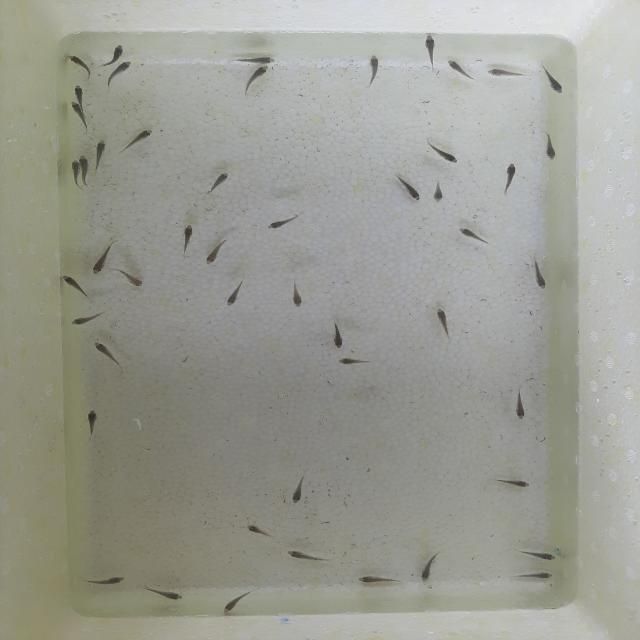fingerling: (282, 546, 332, 569), (288, 467, 313, 506), (432, 305, 457, 344), (220, 588, 256, 615), (507, 386, 533, 422), (494, 472, 536, 493), (426, 140, 459, 166), (456, 225, 492, 248), (528, 254, 549, 292), (67, 100, 90, 134), (419, 548, 441, 583), (64, 311, 104, 330), (398, 176, 425, 204), (222, 280, 248, 308), (242, 65, 272, 89), (143, 586, 186, 602), (125, 127, 156, 149), (542, 70, 568, 96), (59, 272, 87, 296), (244, 522, 277, 542), (88, 245, 110, 275), (518, 548, 559, 564), (109, 60, 136, 84), (334, 354, 380, 368), (66, 53, 95, 75), (83, 408, 101, 443), (180, 222, 197, 259), (92, 340, 118, 364), (429, 180, 452, 207), (203, 239, 224, 267), (118, 268, 146, 288), (83, 574, 129, 586), (228, 55, 278, 65), (503, 161, 519, 192), (209, 170, 231, 192), (424, 33, 437, 70), (446, 58, 470, 78), (331, 320, 346, 352), (485, 67, 524, 79), (268, 215, 297, 231), (67, 83, 91, 101), (356, 575, 398, 585), (513, 571, 555, 581), (289, 278, 302, 310), (94, 137, 110, 163), (542, 134, 557, 160), (368, 54, 381, 82), (109, 42, 128, 60), (80, 155, 89, 191), (72, 158, 80, 191)
